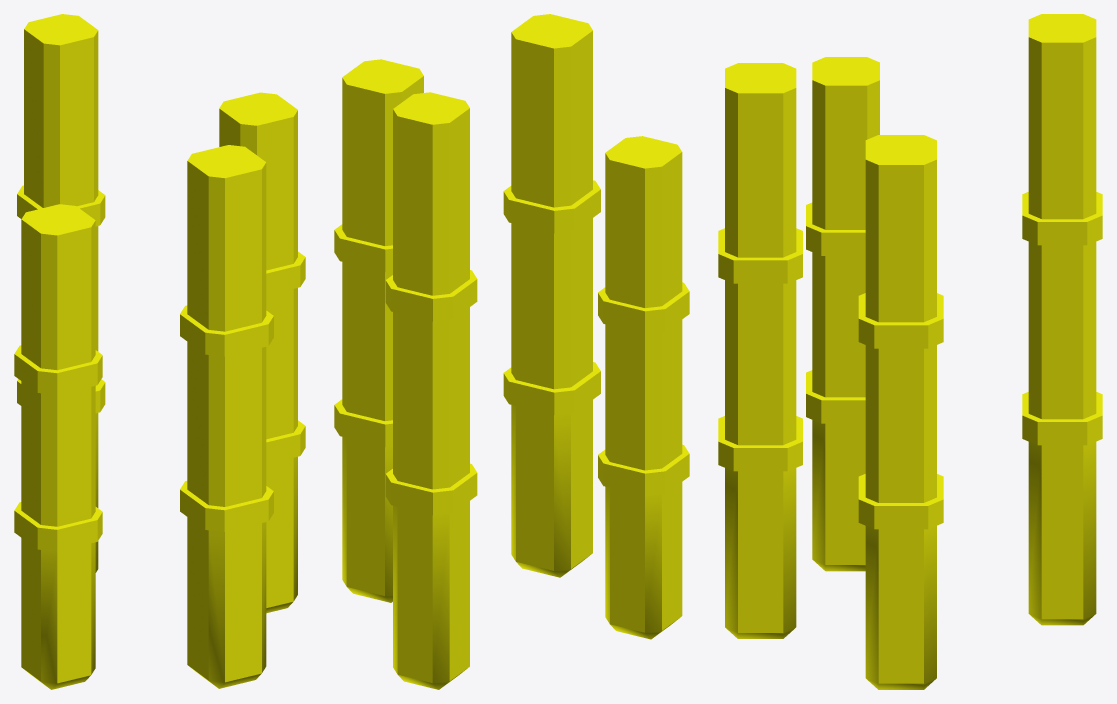
The model's file is Bamboo_Mid.glb.
3 views of the same model, side by side, from view 1: azimuth 30°, elevation 25°; view 2: azimuth 150°, elevation 25°; view 3: azimuth 270°, elevation 25° (orthographic). The views are drawn at different scales.
Visible parts, largest first — view 1: Bamboo_Mid; view 2: Bamboo_Mid; view 3: Bamboo_Mid.
Part boxes in pixels (bbox=[...]): Bamboo_Mid: bbox=[14, 14, 305, 689]; Bamboo_Mid: bbox=[334, 14, 689, 689]; Bamboo_Mid: bbox=[718, 14, 1102, 689].
Bounding box in the file's own units: 1.46 × 2.61 × 1.55.
1 material, 1 textured.
